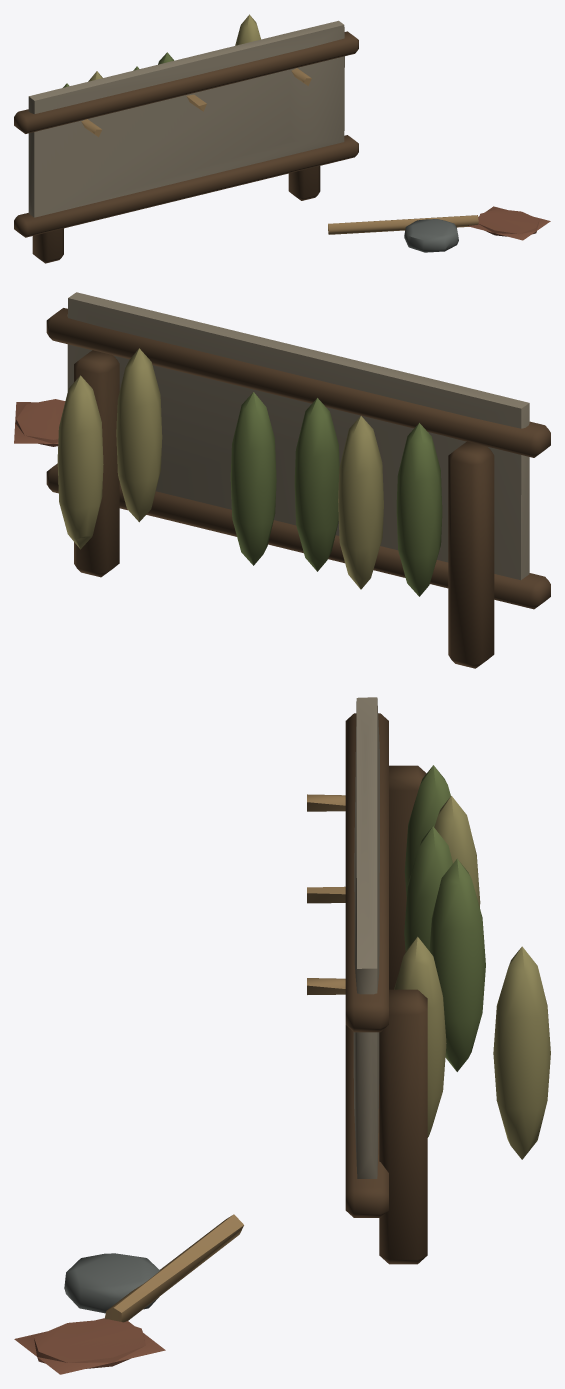
File: tool_peg_c_lod1.glb
The picture shows the model from 3 angles, top to bottom: view 1: azimuth 30°, elevation 25°; view 2: azimuth 150°, elevation 25°; view 3: azimuth 270°, elevation 25°; orthographic projection. The views are drawn at different scales.
Parts seen in each view (by area): view 1: Surface.001; view 2: Surface.001; view 3: Surface.001.
Boxes of the visible parts, left/top/right/bottom form: Surface.001: left=14, top=14, right=550, bottom=263; Surface.001: left=14, top=292, right=550, bottom=668; Surface.001: left=14, top=697, right=550, bottom=1374.
Size of the model in its own units: 3.85 by 1.45 by 2.23.
